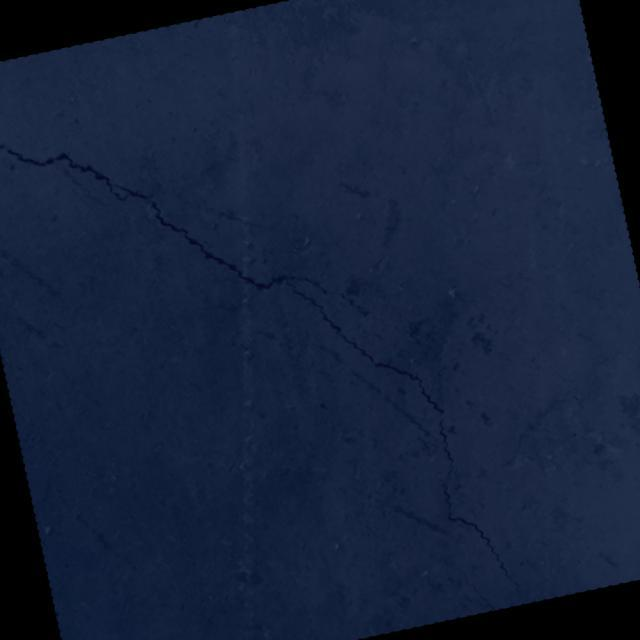crack: (0, 1, 522, 640), (458, 566, 498, 616)
